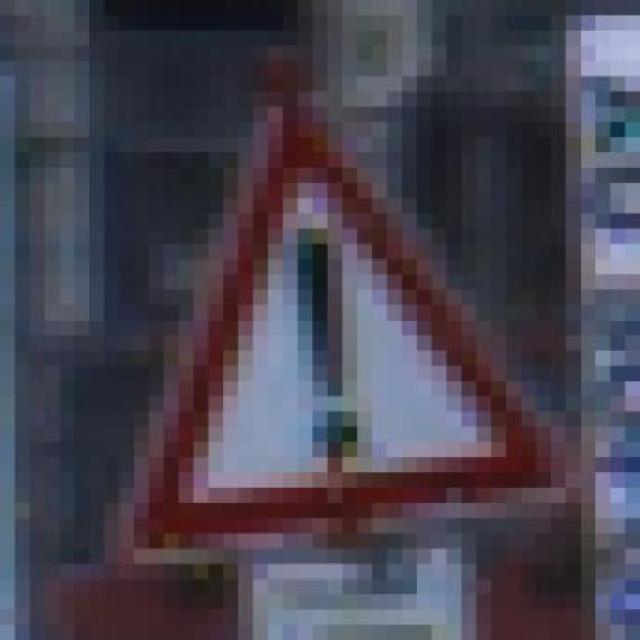Attention Please-: (64, 79, 570, 552)
